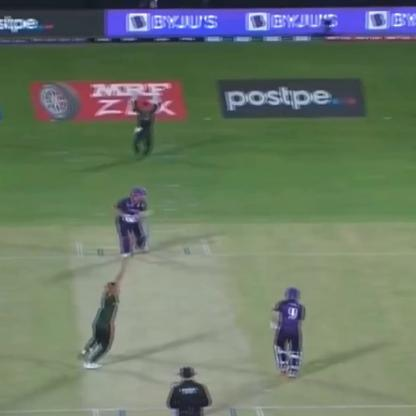pitch: (58, 236, 266, 416)
